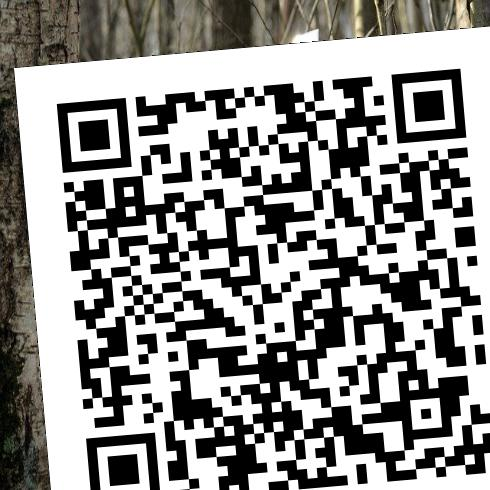qr_code: (14, 20, 489, 490)
